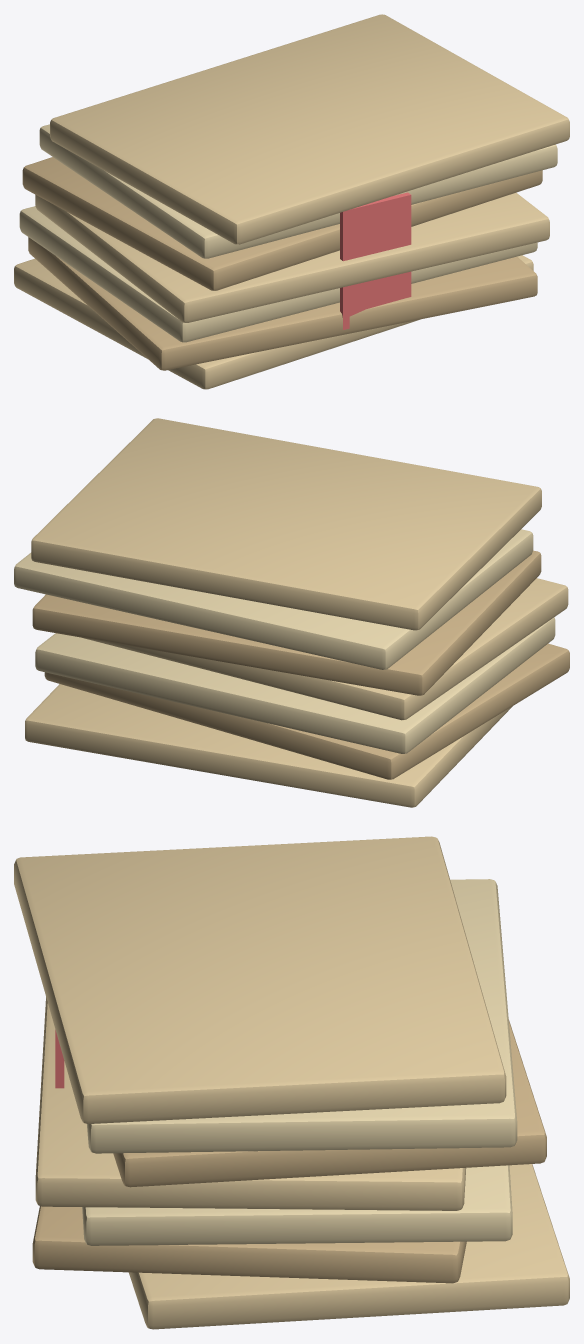
The model's file is sd_pastas.glb.
3 renders of one model, top to bottom at view 1: azimuth 30°, elevation 25°; view 2: azimuth 150°, elevation 25°; view 3: azimuth 270°, elevation 25°, orthographic. The views are drawn at different scales.
Parts seen in each view (by area): view 1: Cube; view 2: Cube; view 3: Cube.
Boxes of the visible parts, x1,y1,x2,y2 form: Cube: [14, 14, 569, 389]; Cube: [14, 418, 569, 807]; Cube: [14, 836, 569, 1329].
Bounding box in the file's own units: 0.3625 × 0.152 × 0.3112.
